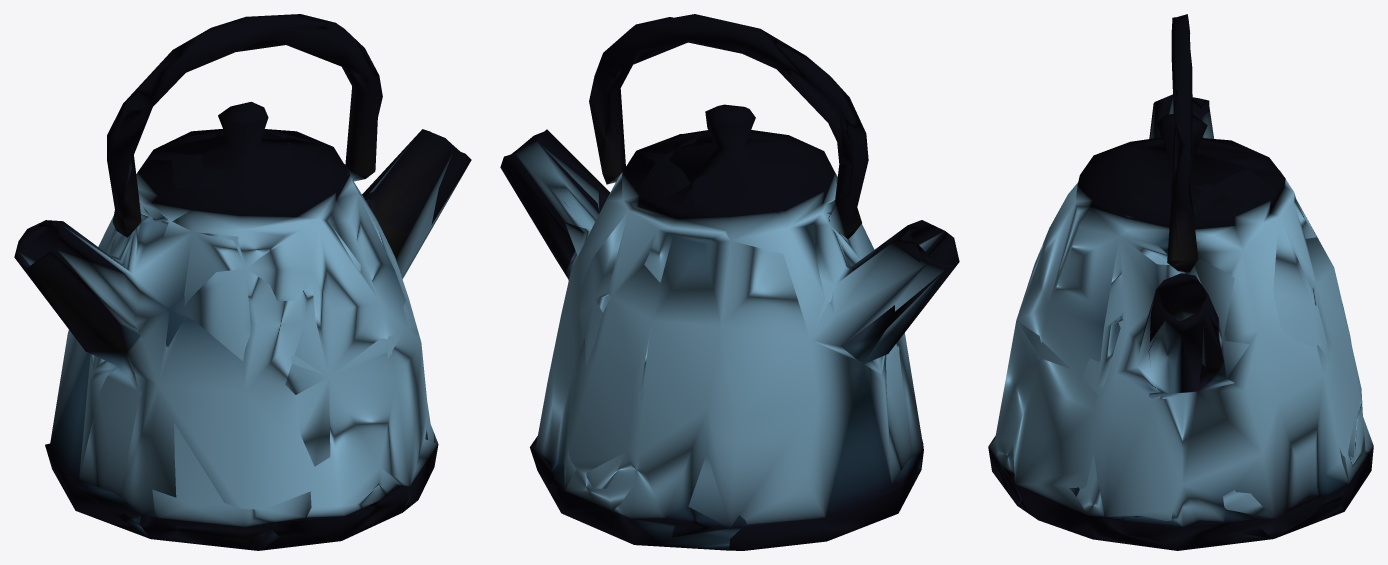
The model's file is gen3d-kettle-lod1.glb.
3 renders of one model, left to right at view 1: azimuth 30°, elevation 25°; view 2: azimuth 150°, elevation 25°; view 3: azimuth 270°, elevation 25°, orthographic. The views are drawn at different scales.
Visible parts, largest first — view 1: part_0; view 2: part_0; view 3: part_0.
Boxes of the visible parts, left/top/right/bottom form: part_0: left=14, top=14, right=471, bottom=550; part_0: left=500, top=14, right=959, bottom=550; part_0: left=988, top=14, right=1373, bottom=550.
Bounding box in the file's own units: 1.03 × 0.9993 × 0.7929.
